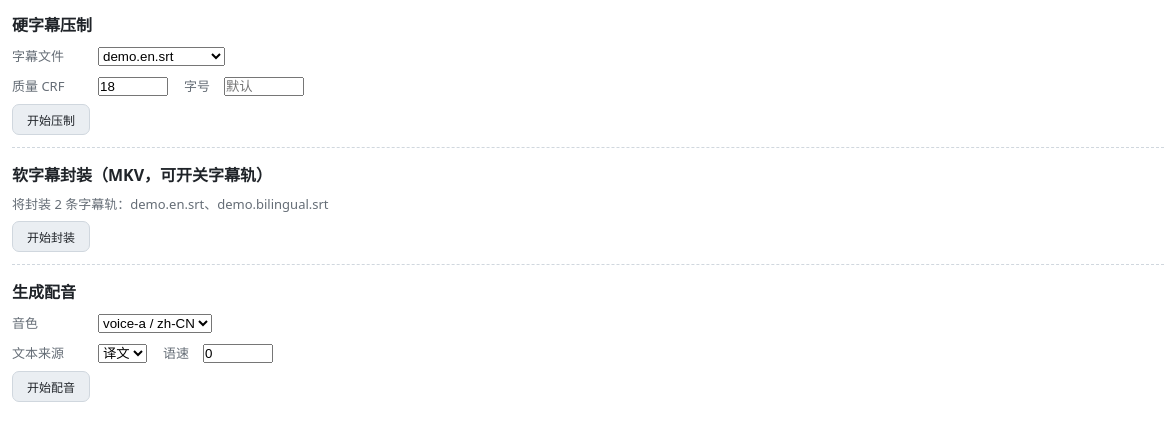
Test: MediaTools › 后端报错时展示 detail 原文
The width and height of the screenshot is (1164, 448).
Click the button "开始压制". click: coordinates (51, 120)
box: left=12, top=104, right=90, bottom=135
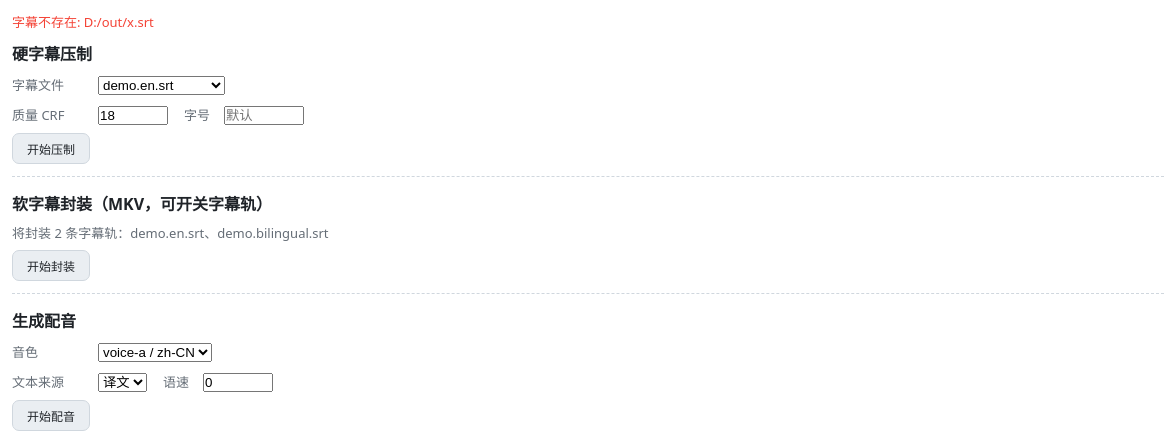
Now the text "字幕不存在: D:/out/x.srt" is shown, box left=12, top=13, right=154, bottom=31
